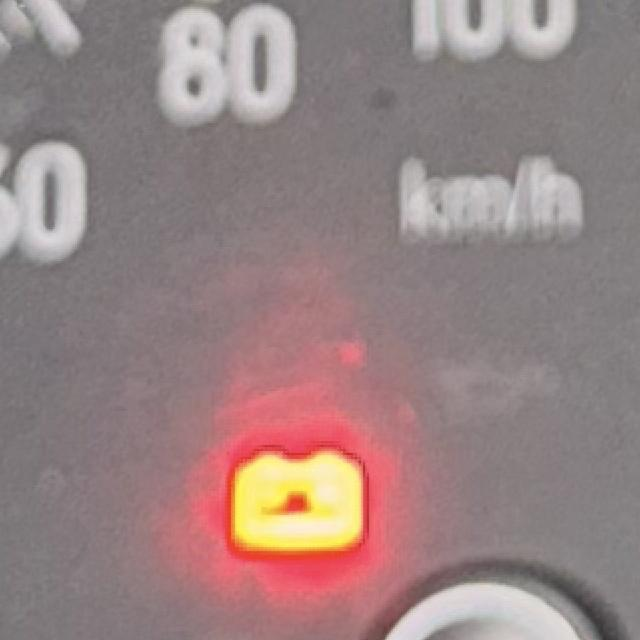Battery Issue: (228, 442, 371, 558)
